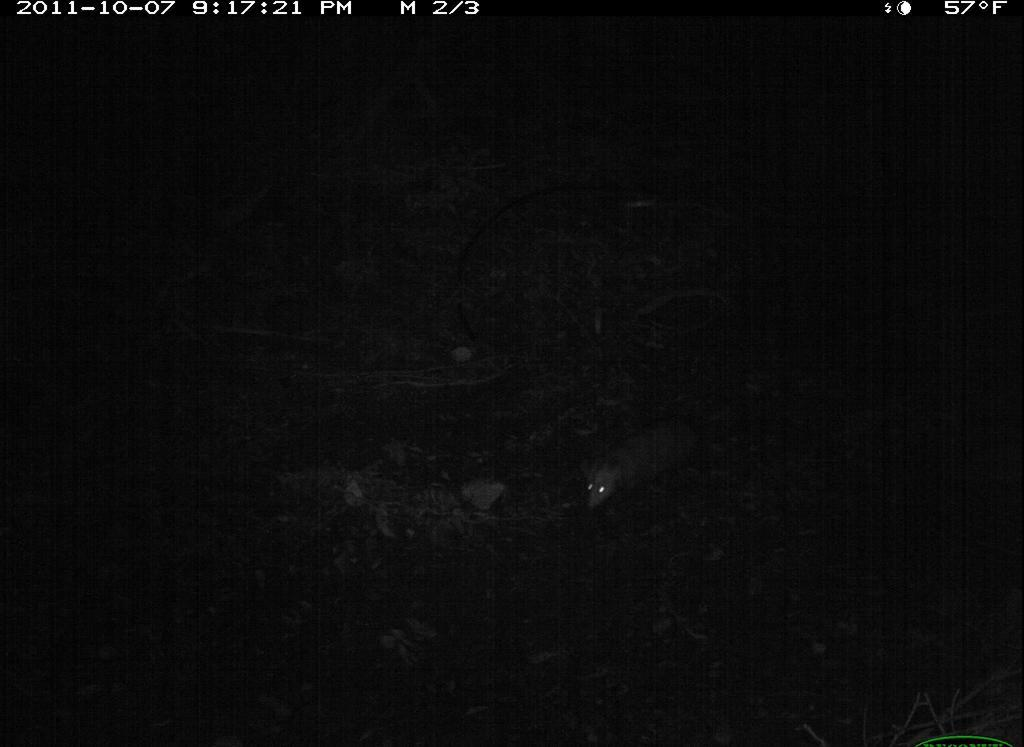opossum: (557, 427, 694, 548)
